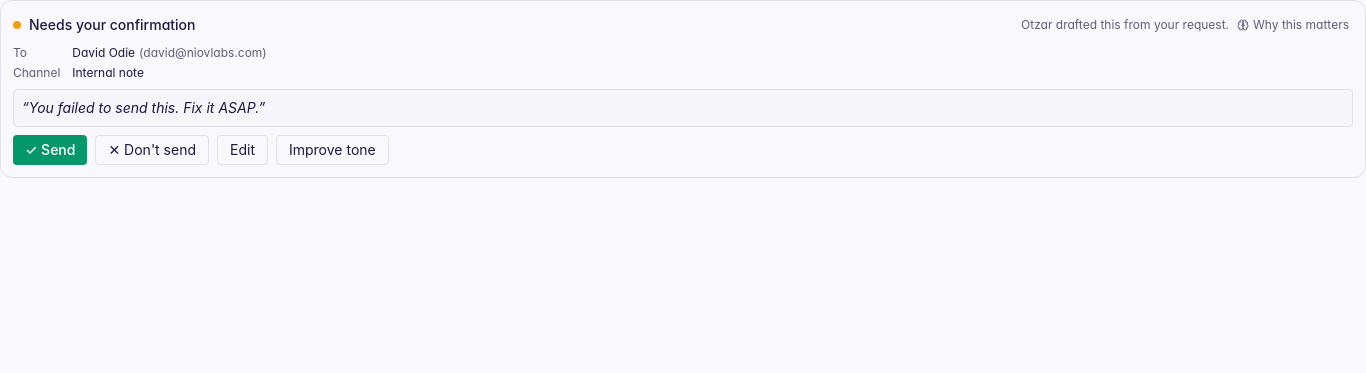
Test case: ProposedActionCard — advisory draft tone › renders honestly with a deterministic label when Python is down
This screenshot has width=1366, height=373.
Click the button with test id "ctx-improve-tone-button" at (332, 150), box [276,135,389,165]
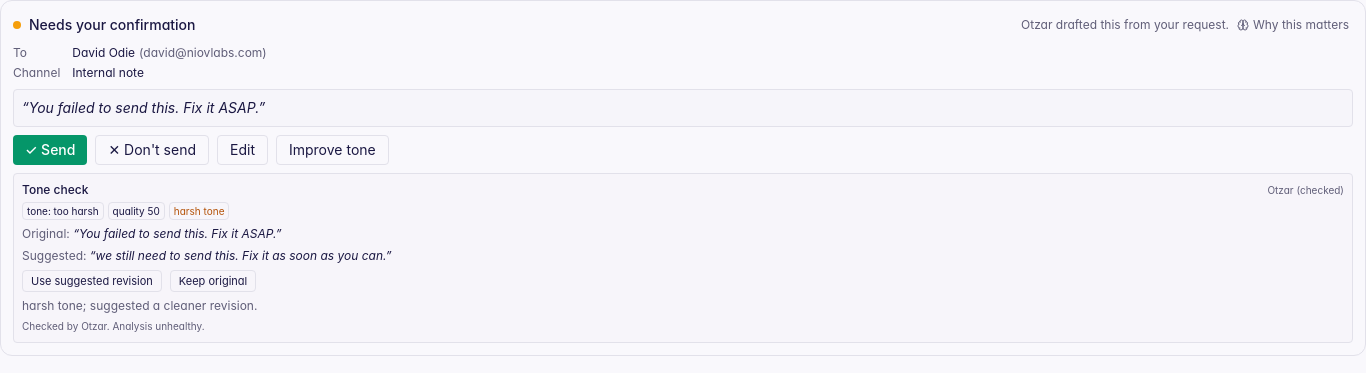
expect the text "Otzar (checked)" is shown: met, box [1267,182,1344,198]
expect the text with test id "ctx-tone-advisory-label" reads "Otzar (checked)": met, box [1267,184,1344,196]
expect the text with test id "ctx-tone-provenance" shows "unhealthy": met, box [110,320,205,332]
